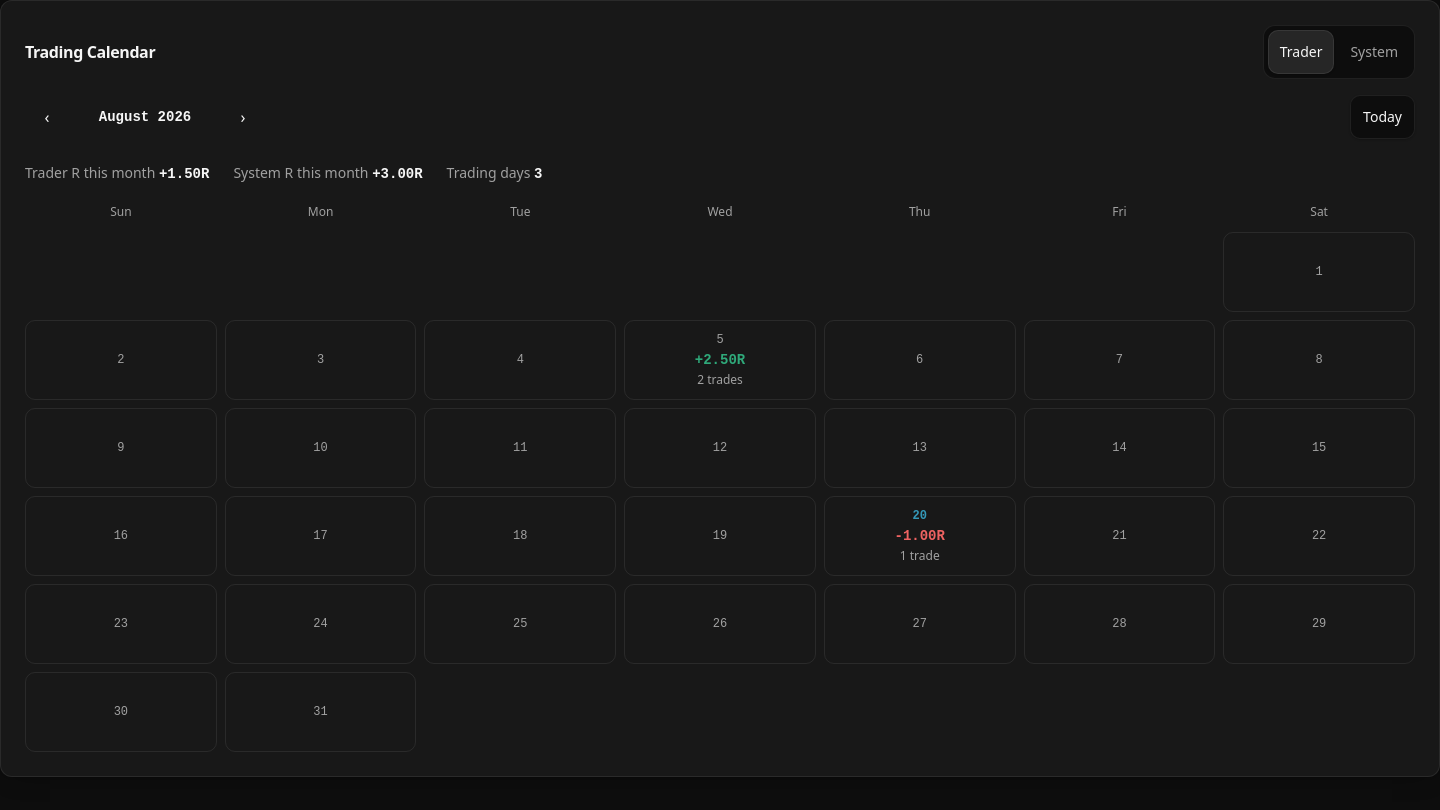
Scenario: TradingCalendar (Phase 14D) › switches to System R values when the axis toggle is used, without changing the URL
Click the radio button labelled "System".
click(1374, 52)  # box [1350,42,1398,61]
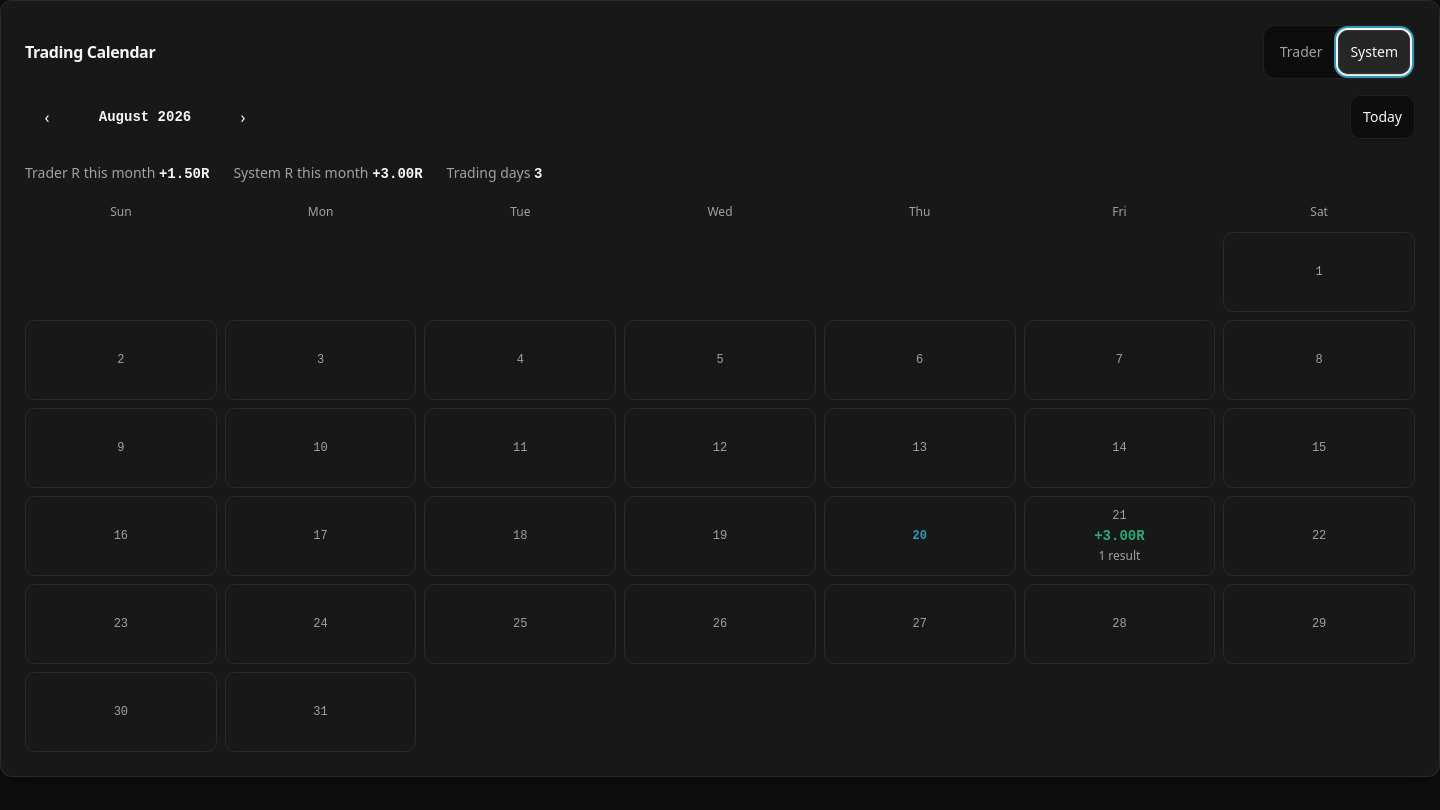
Expected: the button "21 +3.00R 1 result" is shown, [1024,496,1215,576]
Expected: the text "-1.00R" is gone
